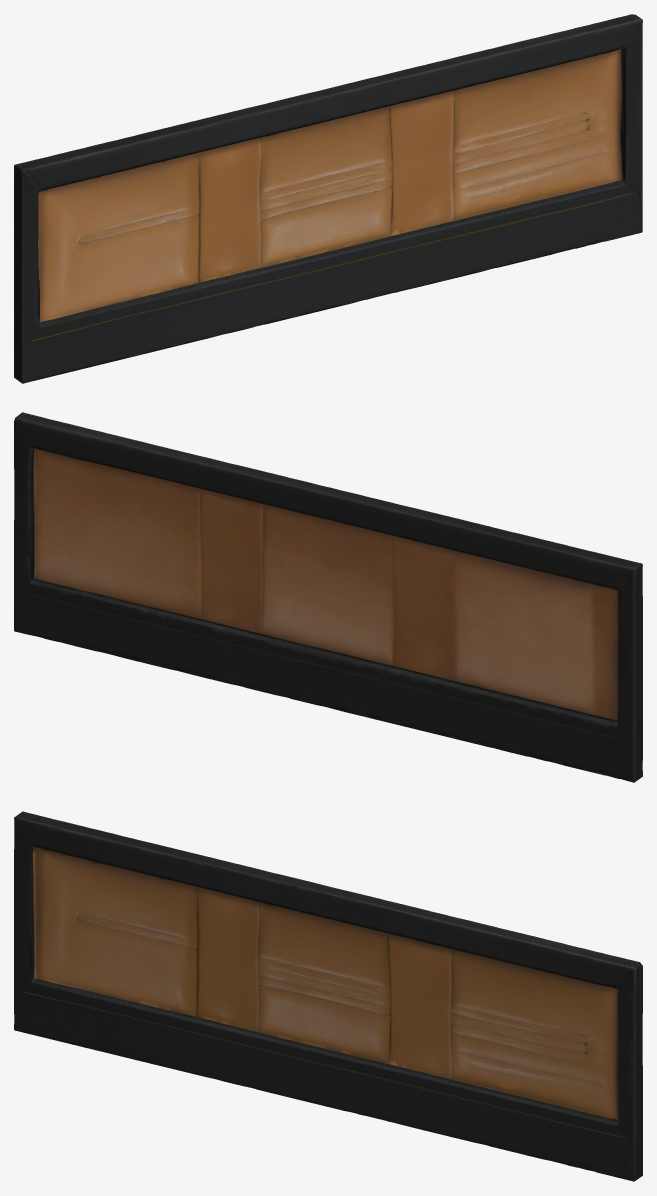
Rendered from space_wall_0626123656_texture.glb.
3 views of the same model, one above another, from view 1: azimuth 30°, elevation 25°; view 2: azimuth 150°, elevation 25°; view 3: azimuth 330°, elevation 25° (orthographic).
Size of the model in its own units: 2 by 0.6583 by 0.0482.
1 material, 1 textured.
